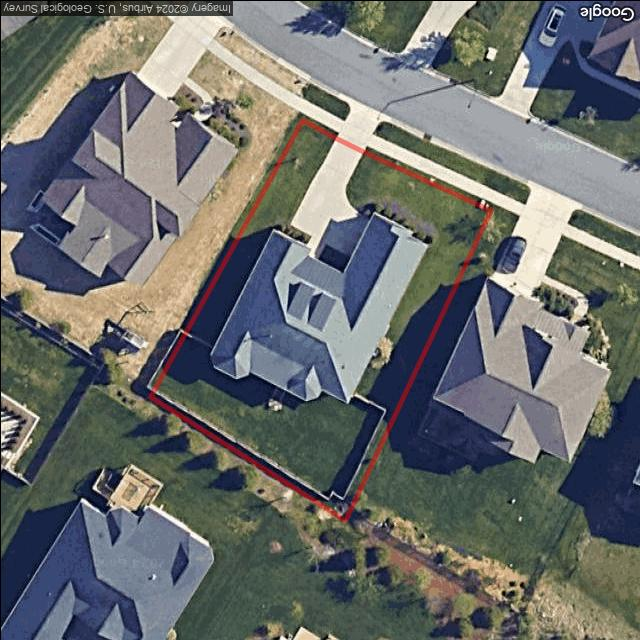Driveway: (288, 137, 370, 256)
Extra-Driveway: (336, 103, 385, 150)
Extra-Lawn: (373, 120, 507, 191), (364, 146, 493, 209), (309, 86, 349, 120), (302, 115, 338, 138)
Extra-Sidewalk: (366, 132, 500, 203), (303, 101, 343, 132)
House: (209, 210, 429, 403)
Lawn: (150, 121, 491, 518)
Other: (353, 200, 435, 244), (273, 220, 311, 244), (318, 244, 350, 272), (365, 334, 392, 367), (266, 386, 285, 411)
Sidewalk: (305, 236, 326, 259)
